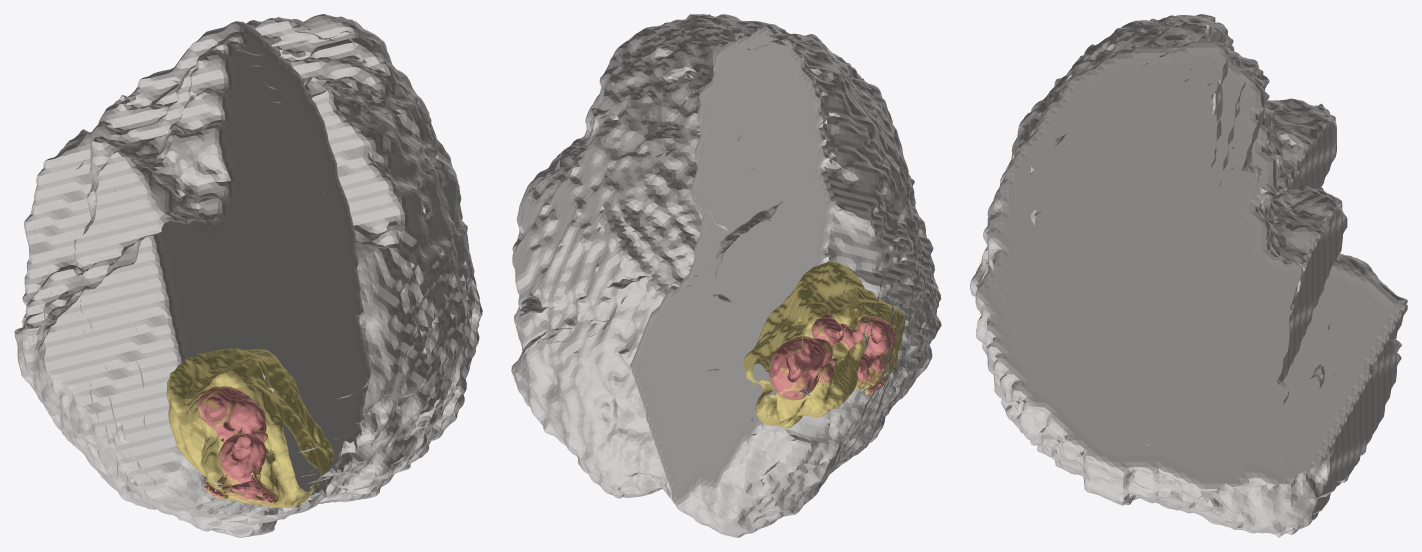
3 renders of one model, left to right at view 1: azimuth 30°, elevation 25°; view 2: azimuth 150°, elevation 25°; view 3: azimuth 270°, elevation 25°, orthographic. The views are drawn at different scales.
Visible parts, largest first — view 1: brain_left, brain_right, edema, enhancing, core; view 2: brain_left, brain_right, edema, enhancing, core; view 3: brain_right, brain_left.
Boxes of the visible parts, box(x1,y1,x2,y2) form: brain_left: box(14, 21, 371, 537); brain_right: box(247, 14, 482, 503); edema: box(166, 348, 334, 508); enhancing: box(197, 386, 274, 502); core: box(197, 386, 278, 504); brain_left: box(629, 24, 941, 537); brain_right: box(511, 14, 785, 500); edema: box(743, 261, 905, 428); enhancing: box(769, 312, 895, 399); core: box(768, 310, 896, 400); brain_right: box(975, 41, 1407, 537); brain_left: box(970, 14, 1407, 303).
Bounding box in the file's own units: 142 × 174 × 146.
